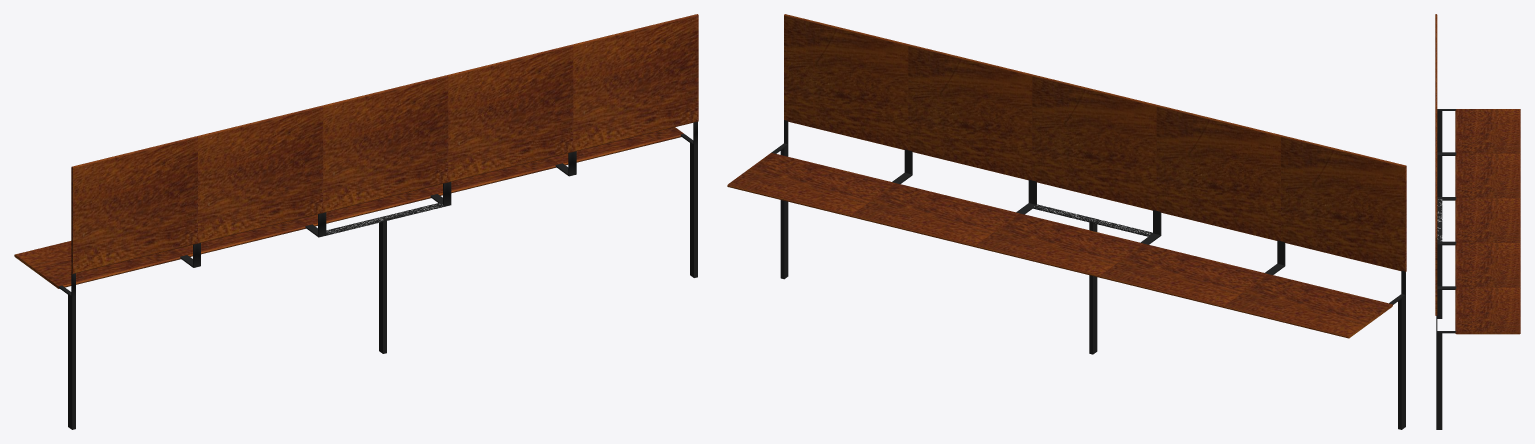
3 views of the same model, side by side, from view 1: azimuth 30°, elevation 25°; view 2: azimuth 150°, elevation 25°; view 3: azimuth 270°, elevation 25° (orthographic). The views are drawn at different scales.
Parts seen in each view (by area): view 1: mesh1_mesh1-geometry; view 2: mesh1_mesh1-geometry; view 3: mesh1_mesh1-geometry.
Boxes of the visible parts, x1,y1,x2,y2 form: mesh1_mesh1-geometry: (14, 14, 698, 429); mesh1_mesh1-geometry: (727, 14, 1406, 429); mesh1_mesh1-geometry: (1435, 14, 1520, 429).
Size of the model in its own units: 0.9175 by 0.3688 by 0.1486.
